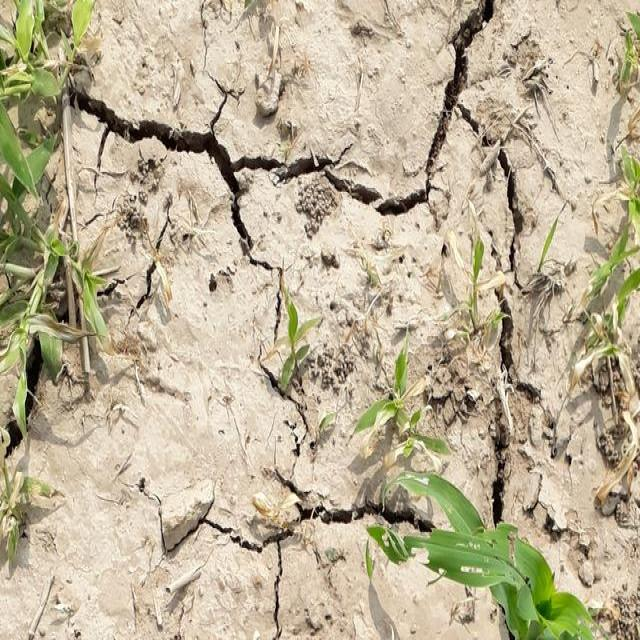weed: (369, 351, 579, 640)
